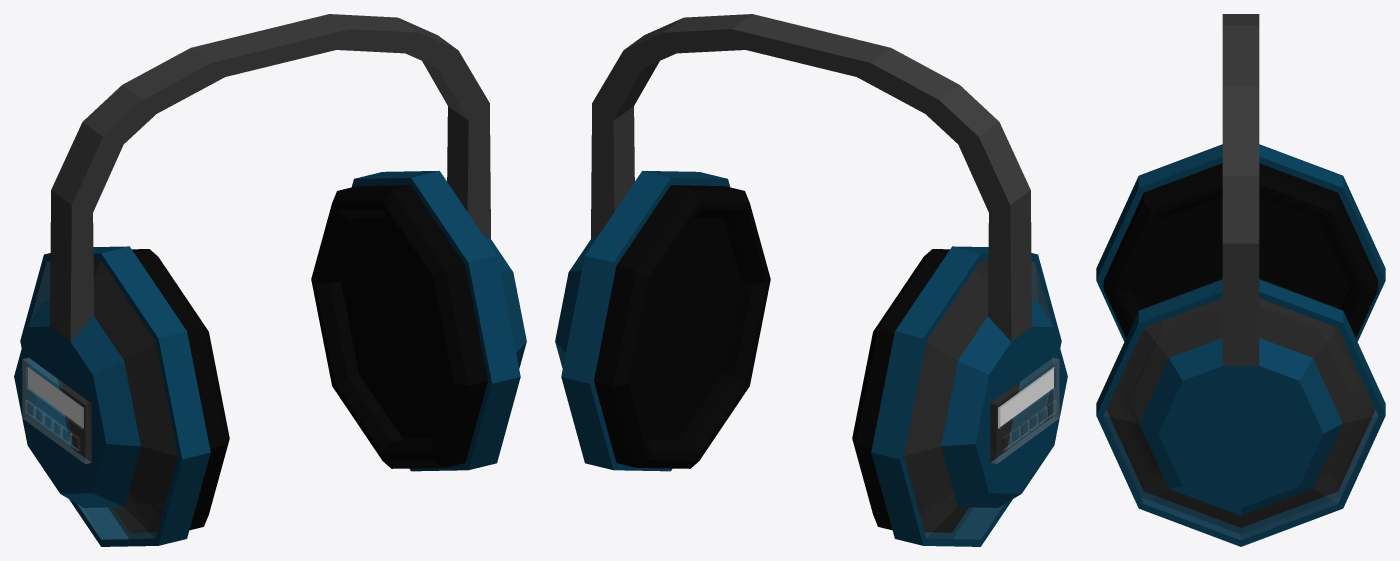
File: headphones.glb
3 renders of one model, left to right at view 1: azimuth 30°, elevation 25°; view 2: azimuth 150°, elevation 25°; view 3: azimuth 270°, elevation 25°, orthographic. The views are drawn at different scales.
Visible parts, largest first — view 1: Cylinder_0; view 2: Cylinder_0; view 3: Cylinder_0.
Part boxes in pixels (x1,y1,x2,y2): Cylinder_0: (14, 14, 526, 546); Cylinder_0: (555, 14, 1067, 546); Cylinder_0: (1096, 14, 1385, 546).
Bounding box in the file's own units: 3.22 × 3.35 × 2.11.
